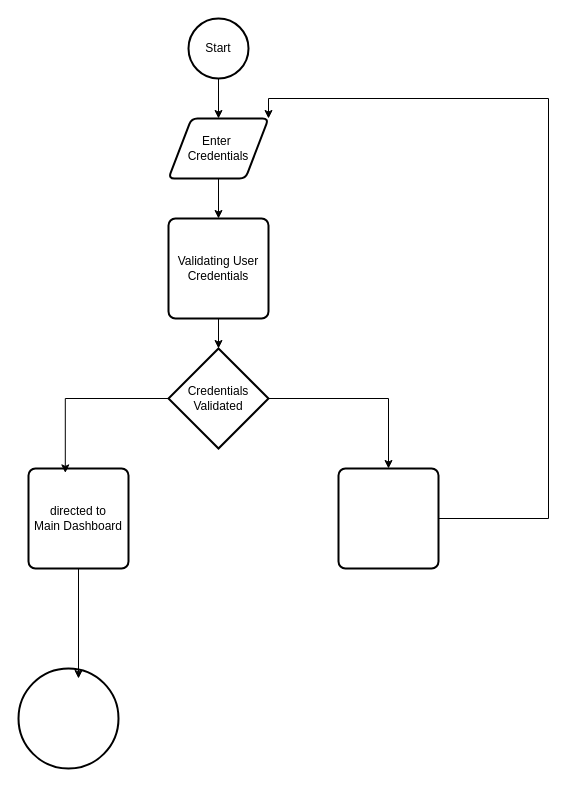
This 574x786 diagram has some shape labels left out. The shapes that lost their labels are listed below. From the top down, each one's centre as x and y in pixels, then its label:
At (388,518): "Register as a New User".
At (68,718): "Finish".
